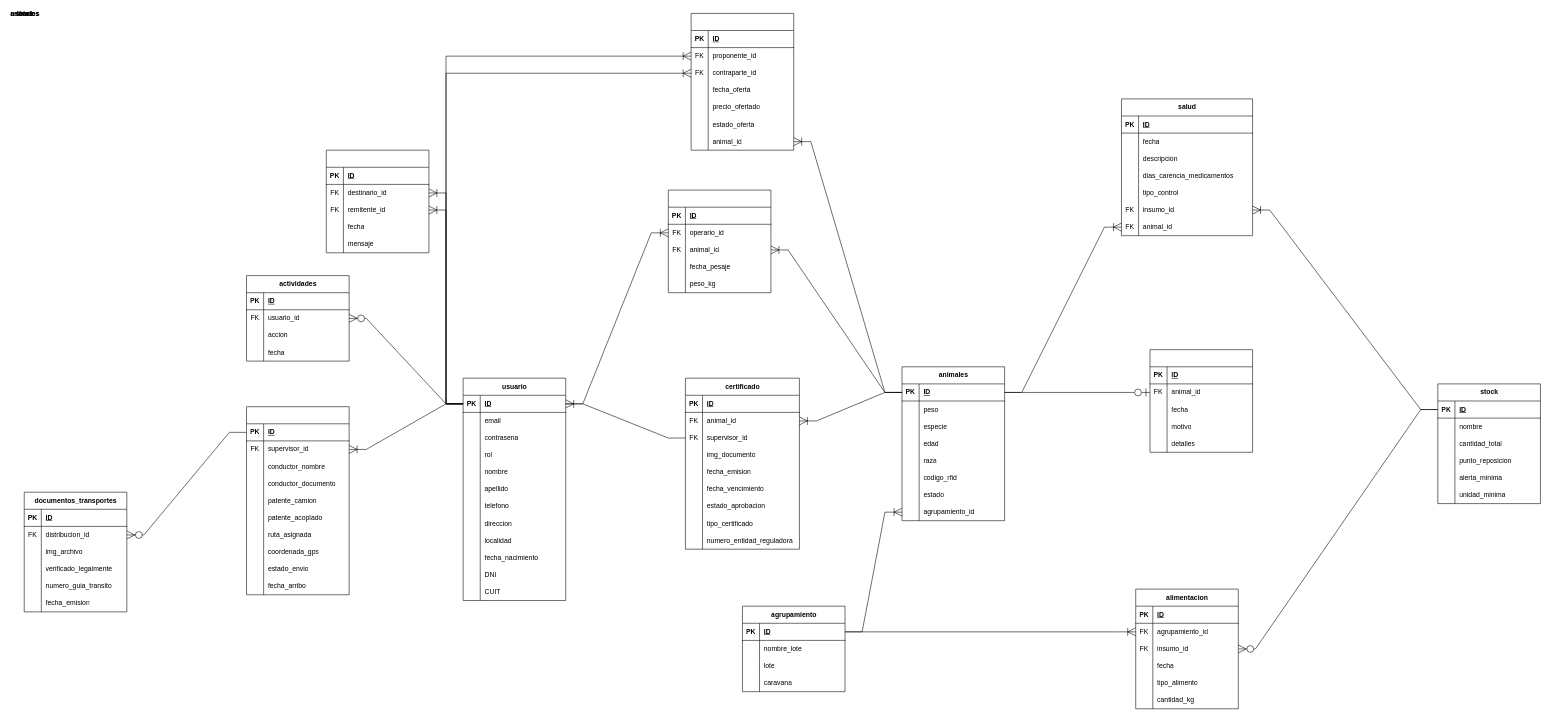
Image size: 1550x719. Some labels were removed from this diagram. Each missing label, with the box of its shape:
bajas_animales: (1149, 349, 1253, 452)
chats: (326, 150, 429, 253)
distribucion: (246, 406, 349, 595)
historial_pesaje: (668, 190, 771, 293)
negociaciones: (691, 13, 794, 150)
